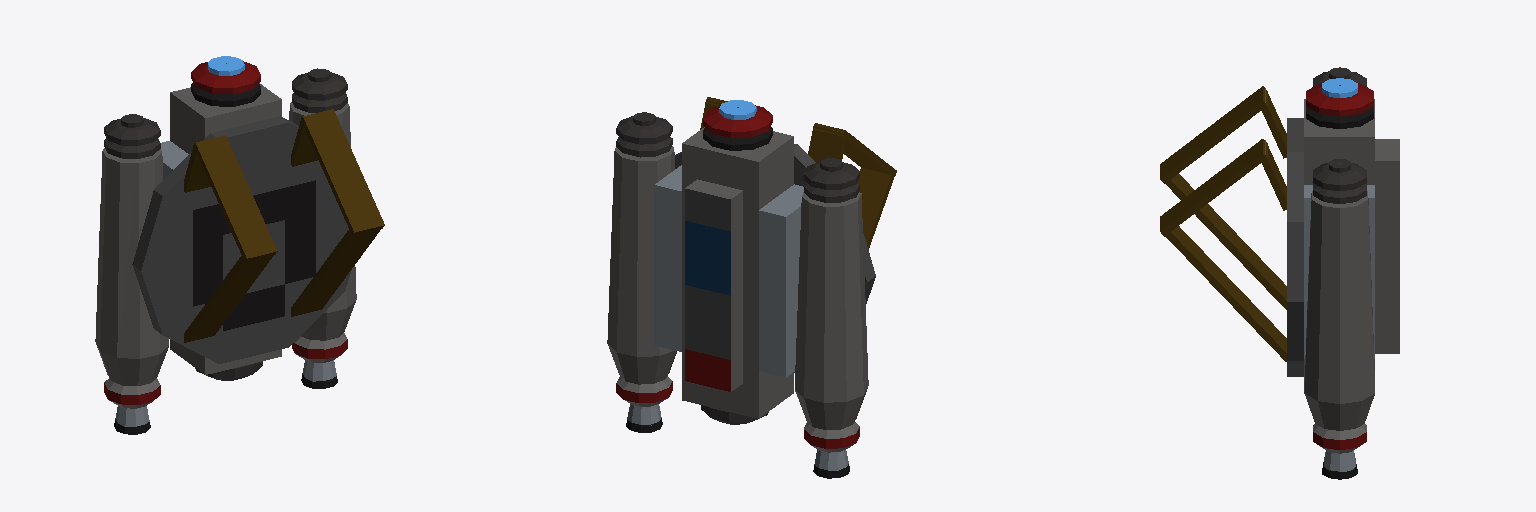
3 views of the same model, side by side, from view 1: azimuth 30°, elevation 25°; view 2: azimuth 150°, elevation 25°; view 3: azimuth 270°, elevation 25° (orthographic).
Visible parts, largest first — view 1: cylinder, cuboid, tube, sphere, cube; view 2: cube, tube, sphere, cylinder, cuboid; view 3: tube, cuboid, cube, cylinder, sphere.
Part boxes in pixels (x1,y1,x2,y2): cylinder: (96,116,355,434); cuboid: (184,109,384,342); tube: (95,56,356,358); sphere: (104,61,347,408); cube: (161,83,281,374); cube: (654,127,803,418); tube: (607,100,868,402); sphere: (616,105,859,452); cylinder: (608,144,875,478); cuboid: (700,97,896,249); tube: (1304,67,1374,403); cuboid: (1160,86,1286,361); cube: (1304,99,1399,393); cylinder: (1287,118,1374,479); sphere: (1306,71,1373,453).
Size of the model in its own units: 0.5127 by 0.6625 by 0.4238.
Materials: 1 (1 with a texture image).